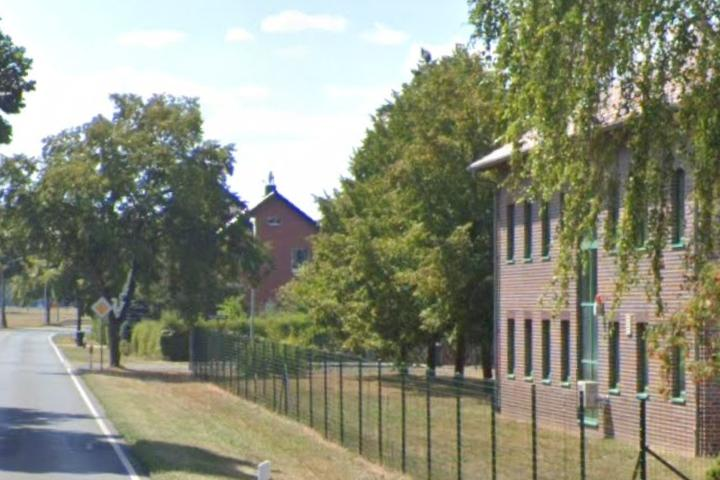traffic_sign: (91, 296, 114, 318)
